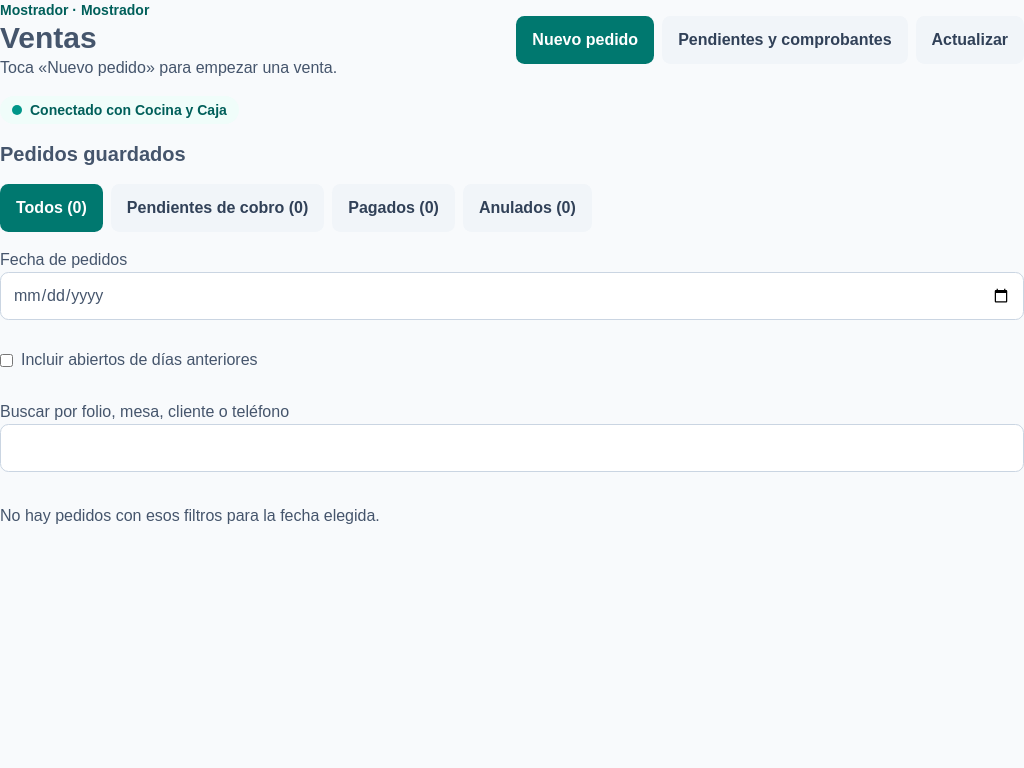
Scenario: Venta de mostrador en una sola pantalla › un cajero no anula directo: pide autorización para quitar productos y no ve Anular pedido (Tarea 15)
The image size is (1024, 768).
Click the button "Nuevo pedido".
click(585, 40)  # box x1=516 y1=16 x2=654 y2=64
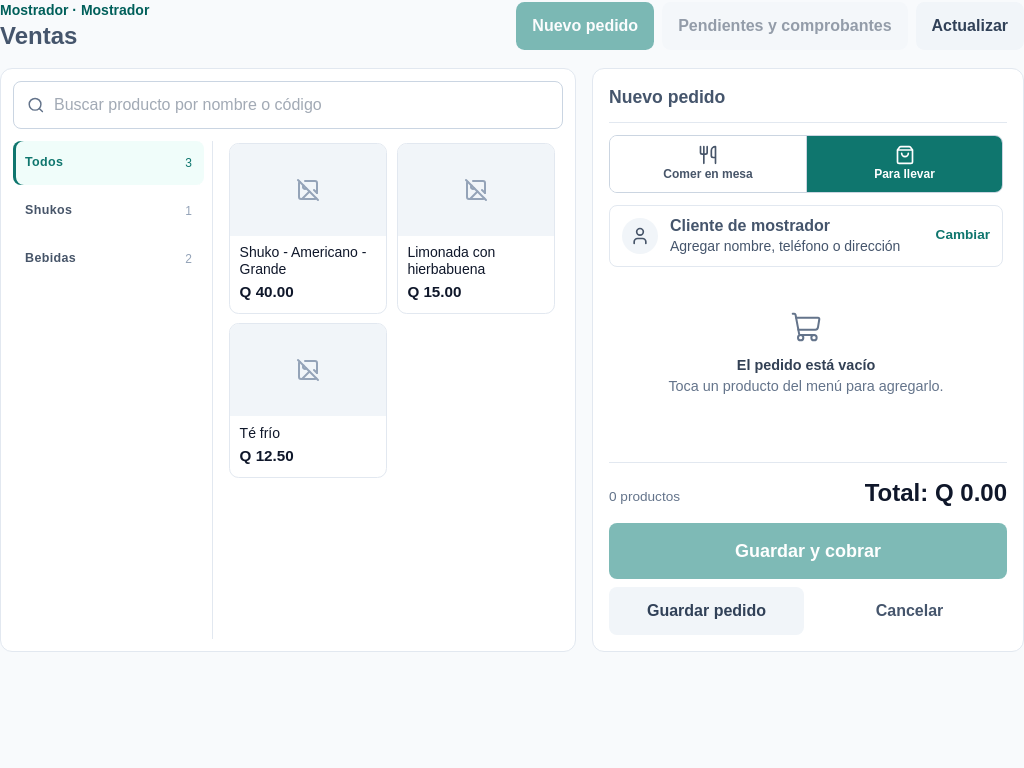
Click the button with aria-label "Agregar Shuko - Americano - Grande por Q 40.00".
click(308, 228)  # box x1=229 y1=143 x2=387 y2=314
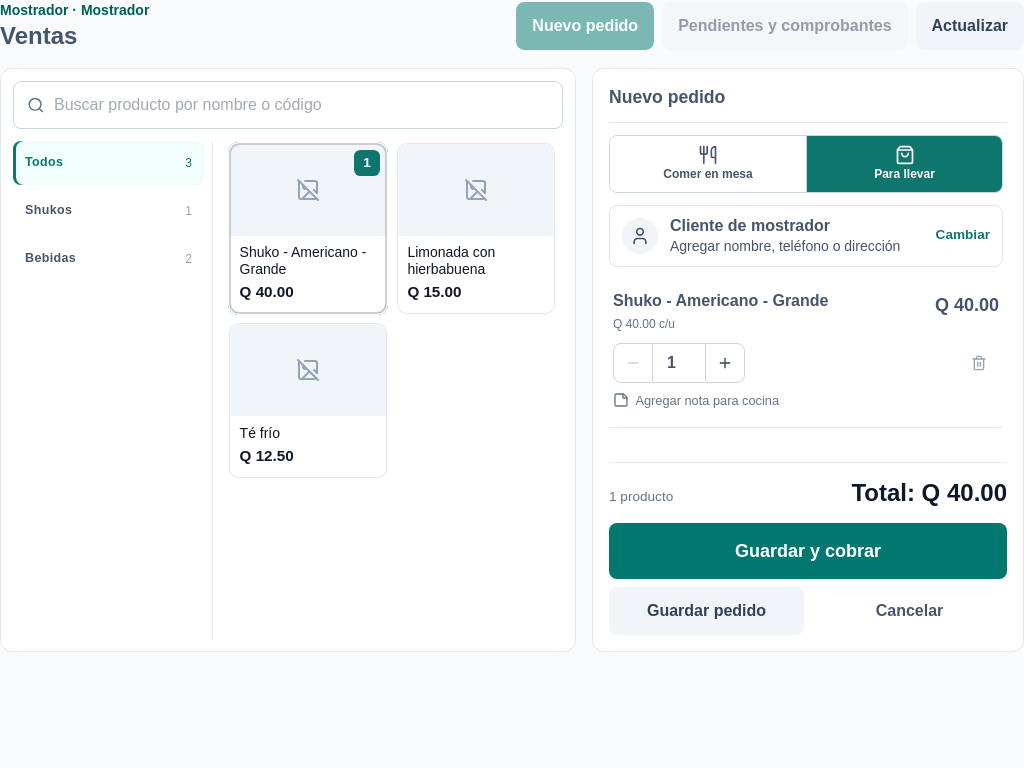
Click the button "Guardar y cobrar".
click(808, 551)  # box x1=609 y1=523 x2=1007 y2=579
(page scrolled)
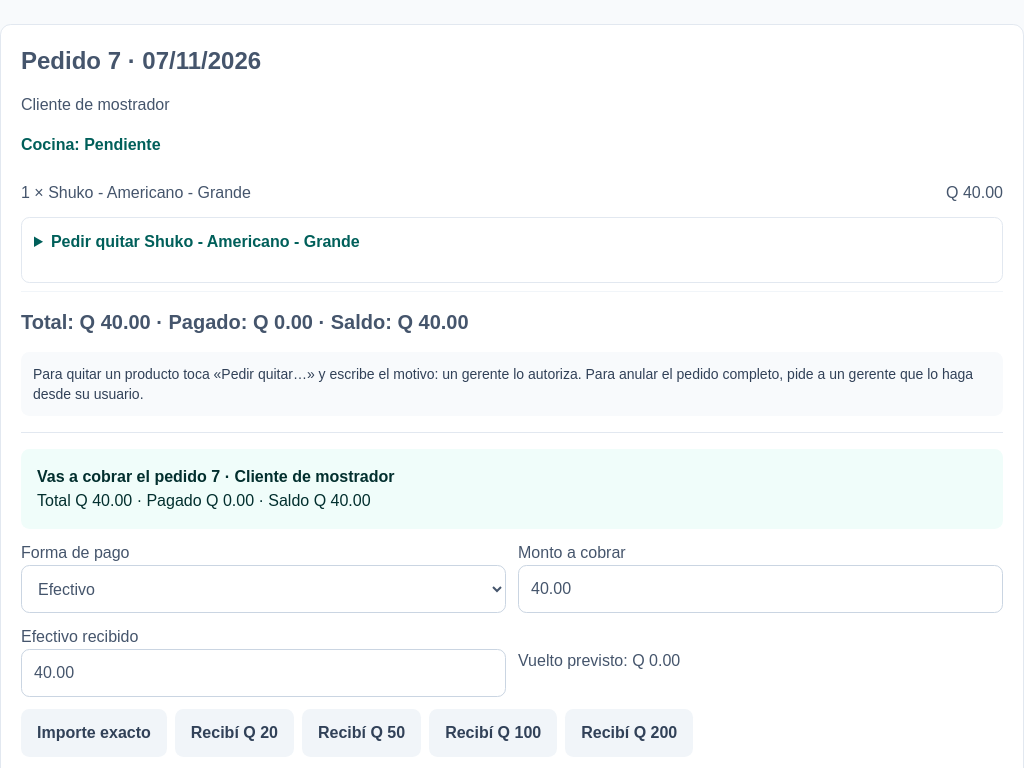
Expected: the heading "Pedir quitar Shuko - Americano - Grande" is shown, x1=51 y1=233 x2=360 y2=250
Expected: the text "pide a un gerente" is shown, x1=33 y1=366 x2=973 y2=402
